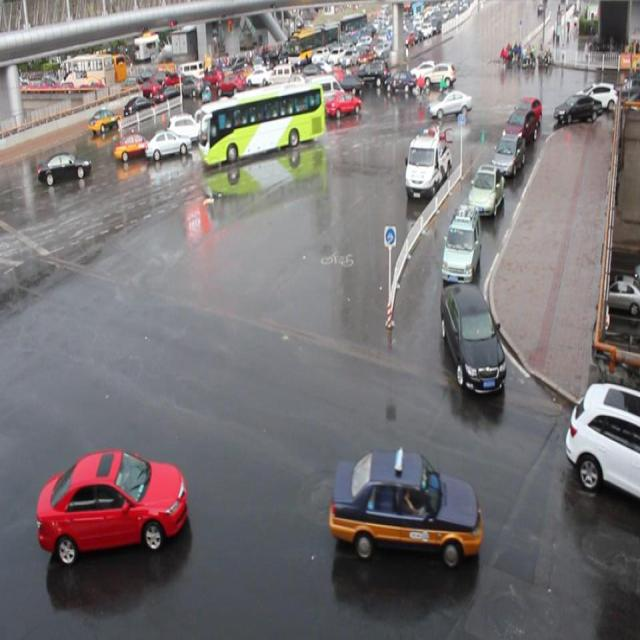bus: (402, 129, 452, 202)
car: (328, 447, 483, 565), (36, 449, 187, 563), (563, 381, 640, 497), (440, 282, 505, 392), (440, 204, 481, 282), (36, 146, 89, 184), (467, 162, 503, 215), (252, 96, 302, 133), (199, 112, 247, 150), (144, 126, 192, 160), (166, 108, 209, 144), (490, 132, 523, 176), (500, 109, 534, 148), (427, 89, 470, 117), (113, 129, 153, 158), (326, 90, 361, 119), (517, 94, 543, 132)
truck: (298, 74, 340, 114), (228, 90, 271, 128)
van: (200, 83, 322, 165)
